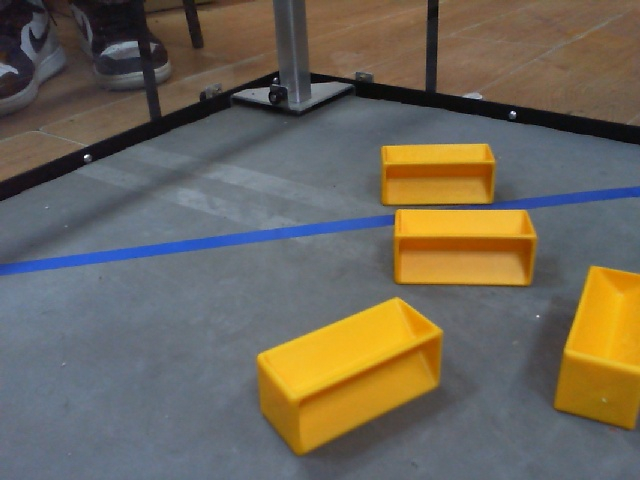YellowSample: (250, 294, 449, 455), (551, 261, 640, 434), (387, 206, 541, 290), (372, 139, 503, 209)
